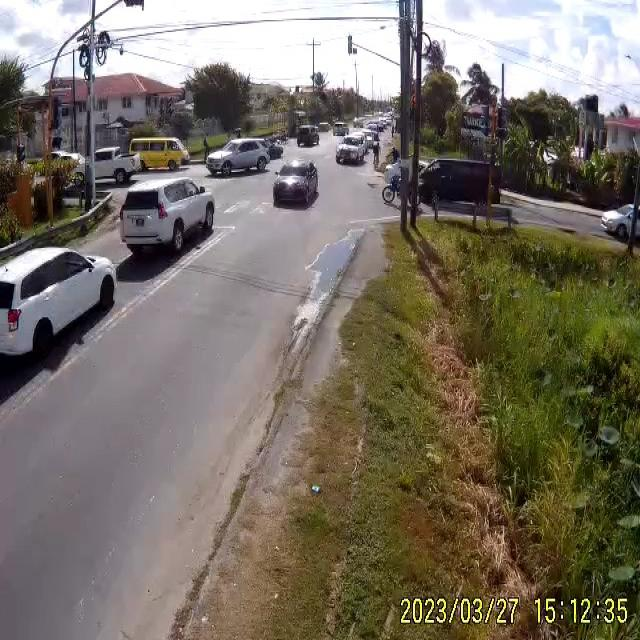car: (0, 240, 120, 376), (120, 177, 216, 255), (388, 157, 500, 216), (206, 140, 270, 178), (273, 160, 318, 208), (130, 138, 190, 174), (94, 148, 142, 185), (600, 204, 638, 242), (335, 138, 366, 166), (296, 126, 318, 147)
motorbike: (384, 164, 404, 206)
